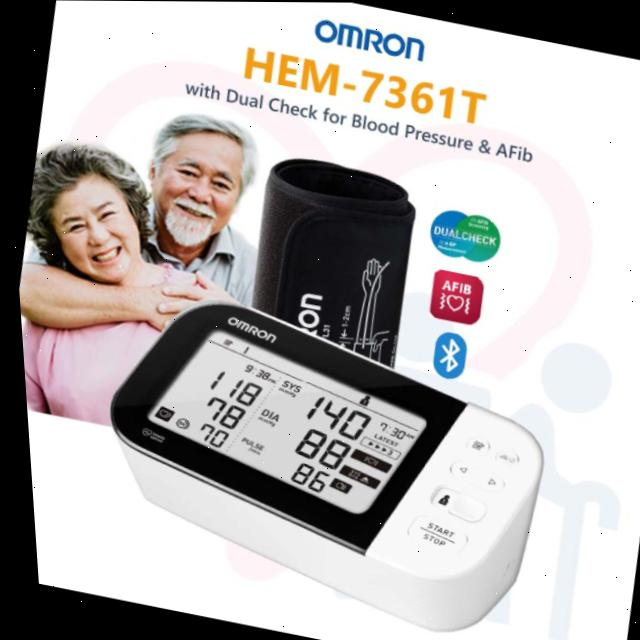dia: (280, 418, 351, 477), (189, 390, 247, 436)
pul: (271, 451, 328, 499), (181, 416, 231, 455)
ssd: (139, 321, 422, 526)
sys: (291, 387, 373, 448), (194, 360, 263, 413)
